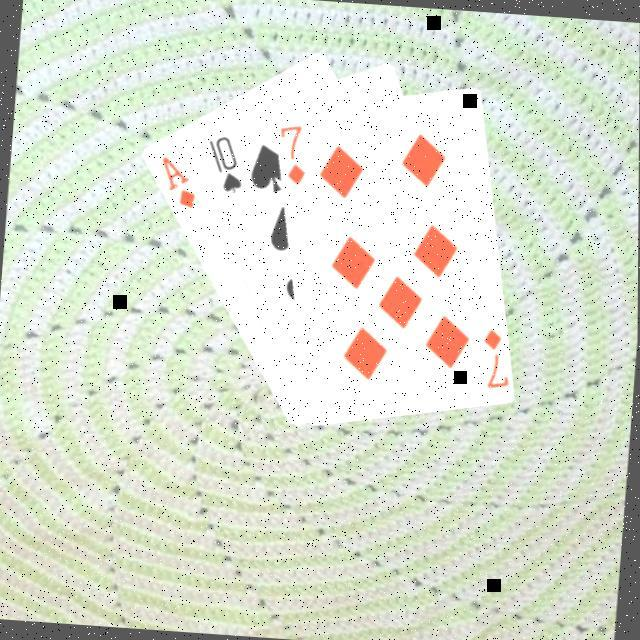10S: (202, 132, 248, 198)
7D: (275, 121, 312, 189), (477, 324, 513, 392)
AD: (154, 152, 202, 213)
